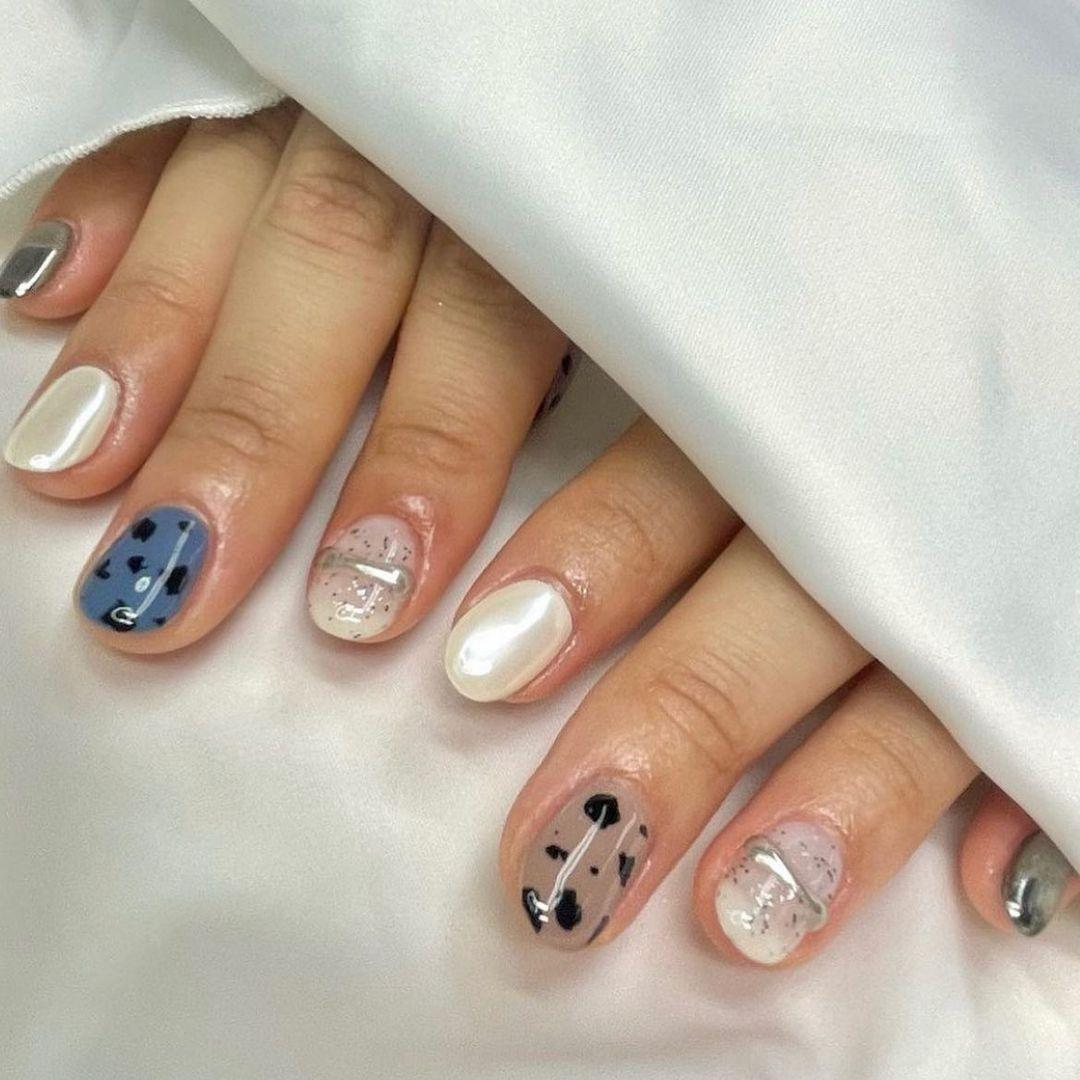nail: (518, 776, 651, 949), (711, 817, 845, 966), (74, 500, 212, 636), (442, 574, 574, 704), (304, 509, 423, 644), (2, 362, 121, 475), (1001, 827, 1073, 936), (0, 215, 75, 300)
